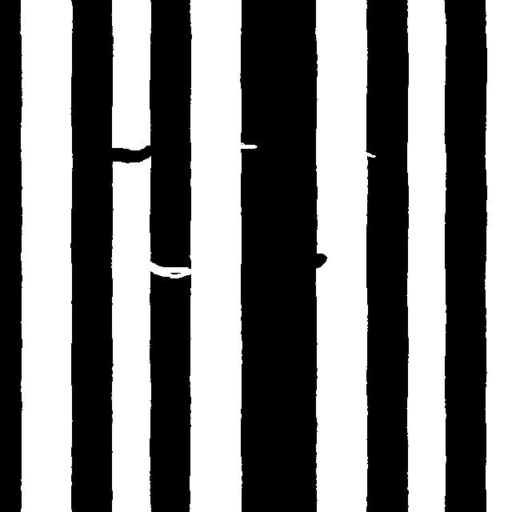mousebite: (228, 134, 265, 156), (357, 144, 383, 165)
open: (138, 253, 201, 286)
short: (96, 138, 161, 170)
spur: (299, 246, 334, 276)
